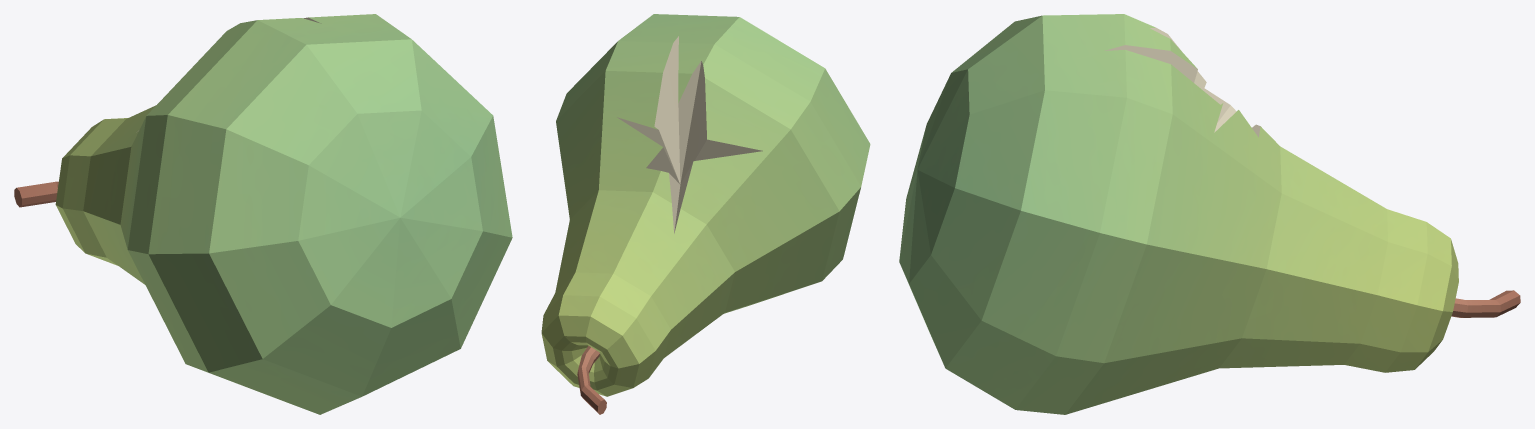
Rendered from SM_Punctured_Pear.fbx.
3 views of the same model, side by side, from view 1: azimuth 30°, elevation 25°; view 2: azimuth 150°, elevation 25°; view 3: azimuth 270°, elevation 25° (orthographic). The views are drawn at different scales.
Parts seen in each view (by area): view 1: SM_Punctured_Pear; view 2: SM_Punctured_Pear; view 3: SM_Punctured_Pear.
Part boxes in pixels (box(x1,y1,x2,y2)): SM_Punctured_Pear: box(14, 14, 512, 414); SM_Punctured_Pear: box(541, 14, 870, 414); SM_Punctured_Pear: box(899, 14, 1520, 414).
Size of the model in its own units: 0.0696 by 0.1069 by 0.0694.
